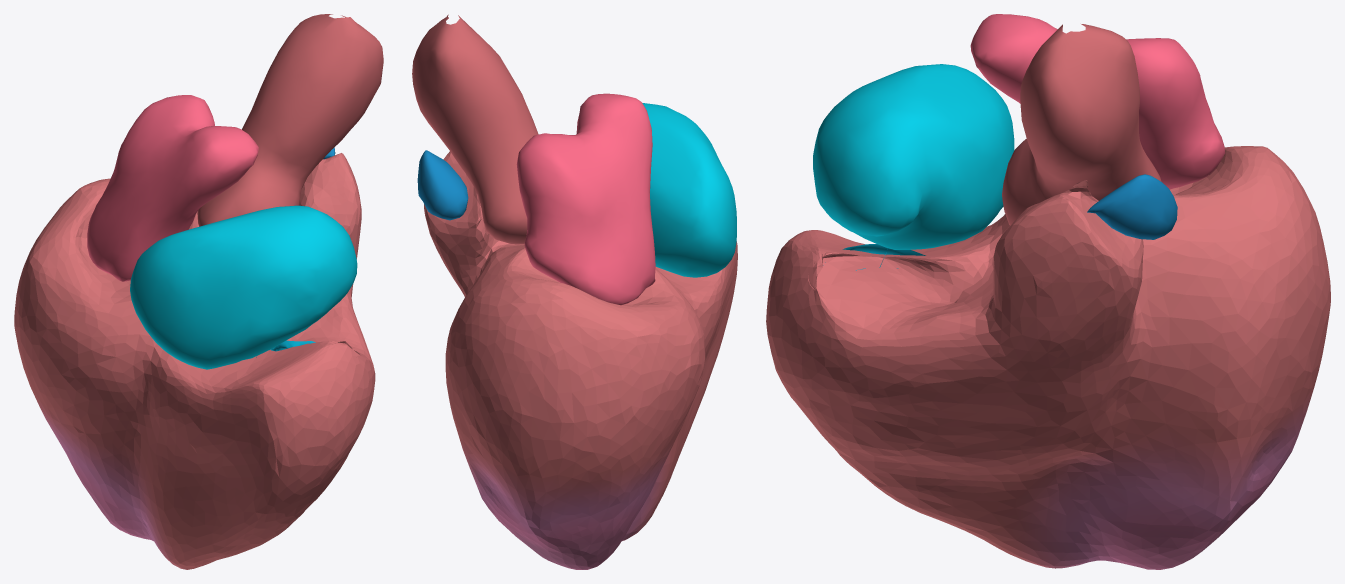
The model's file is frame_45.glb.
The picture shows the model from 3 angles, left to right: view 1: azimuth 30°, elevation 25°; view 2: azimuth 150°, elevation 25°; view 3: azimuth 270°, elevation 25°; orthographic projection. The views are drawn at different scales.
Parts seen in each view (by area): view 1: Renderer Node; view 2: Renderer Node; view 3: Renderer Node.
Boxes of the visible parts, x1,y1,x2,y2 form: Renderer Node: (14,14,383,569); Renderer Node: (412,14,737,569); Renderer Node: (766,14,1330,569).
Size of the model in its own units: 102 by 159 by 126.
